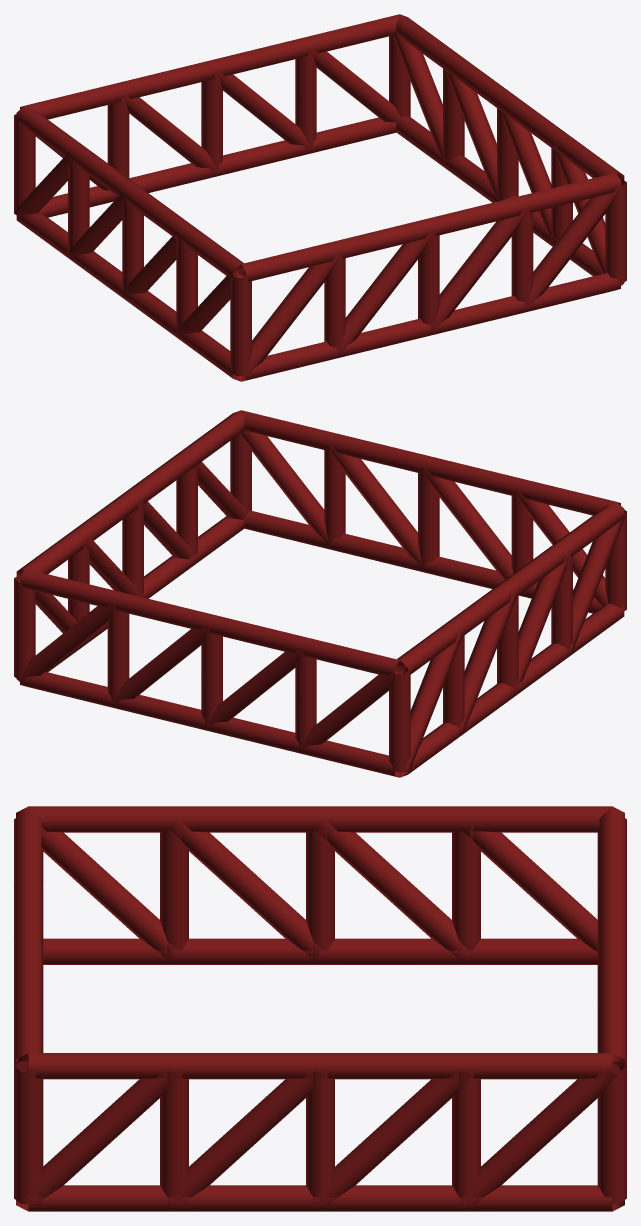
Rendered from andamio12.DAE.
3 renders of one model, top to bottom at view 1: azimuth 30°, elevation 25°; view 2: azimuth 150°, elevation 25°; view 3: azimuth 270°, elevation 25°, orthographic. The views are drawn at different scales.
Visible parts, largest first — view 1: andamio12; view 2: andamio12; view 3: andamio12.
Boxes of the visible parts, x1,y1,x2,y2 form: andamio12: [14, 14, 626, 381]; andamio12: [14, 410, 626, 777]; andamio12: [14, 806, 626, 1211].
Size of the model in its own units: 12.52 by 3.6 by 12.6.
